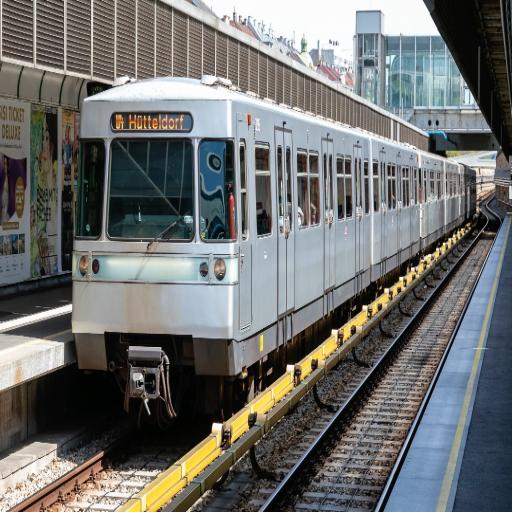Silberpfeil: (71, 63, 479, 389)
